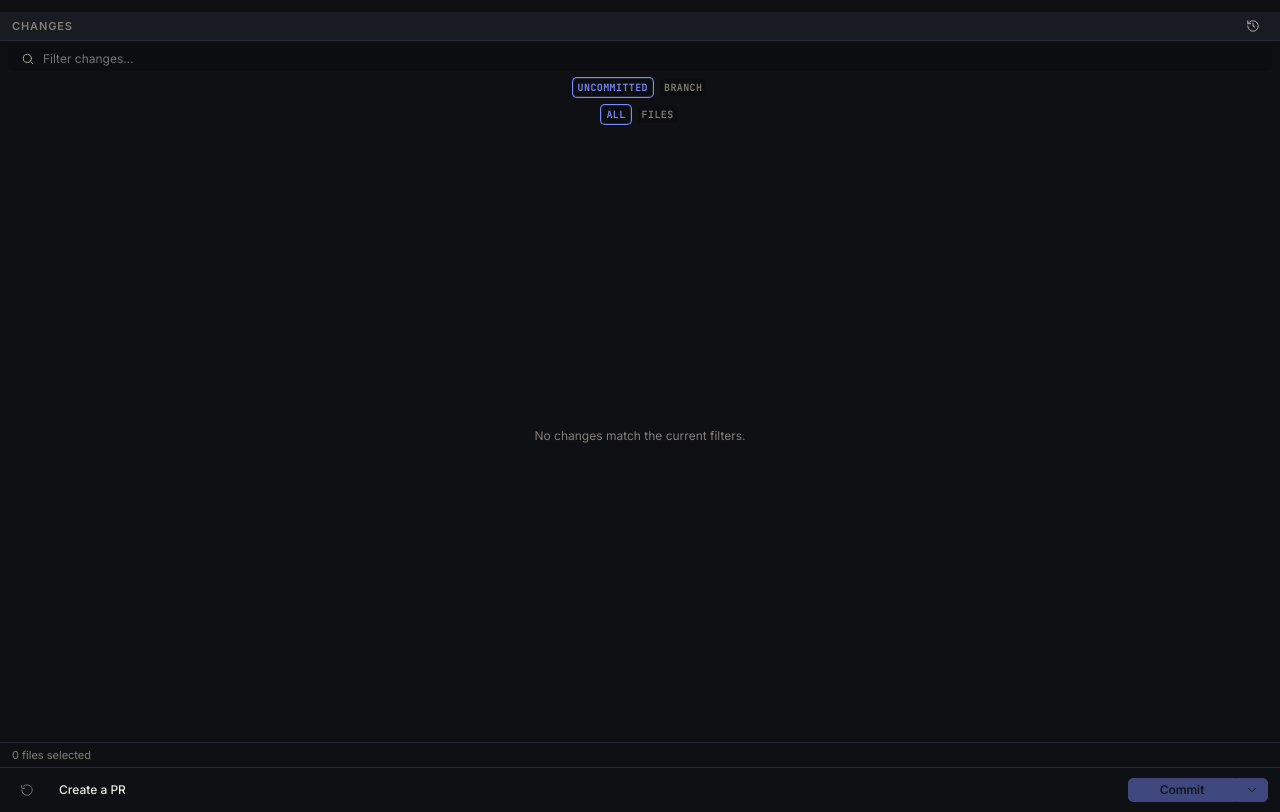
Scenario: the footer action control › CHG-FR-33, CHG-FR-34 persists the selected action user-globally
The image size is (1280, 812).
Check: the text "0 files selected" is shown, box left=0, top=742, right=1279, bottom=767
Check: the button "Commit" is shown, box left=1128, top=778, right=1236, bottom=802
Click the button named "Choose action" at (1252, 790), box left=1236, top=778, right=1268, bottom=802
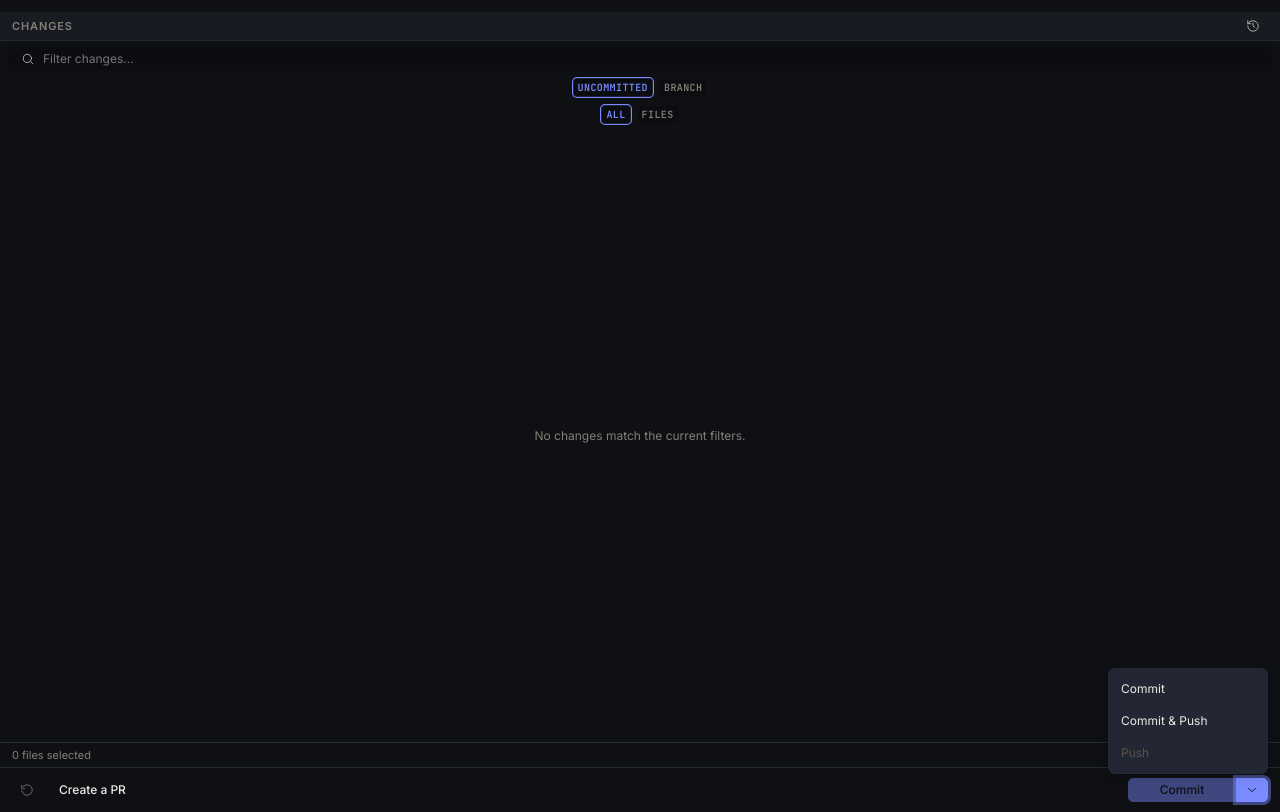
Click the option "Commit & Push" at (1164, 720), box left=1121, top=713, right=1208, bottom=728
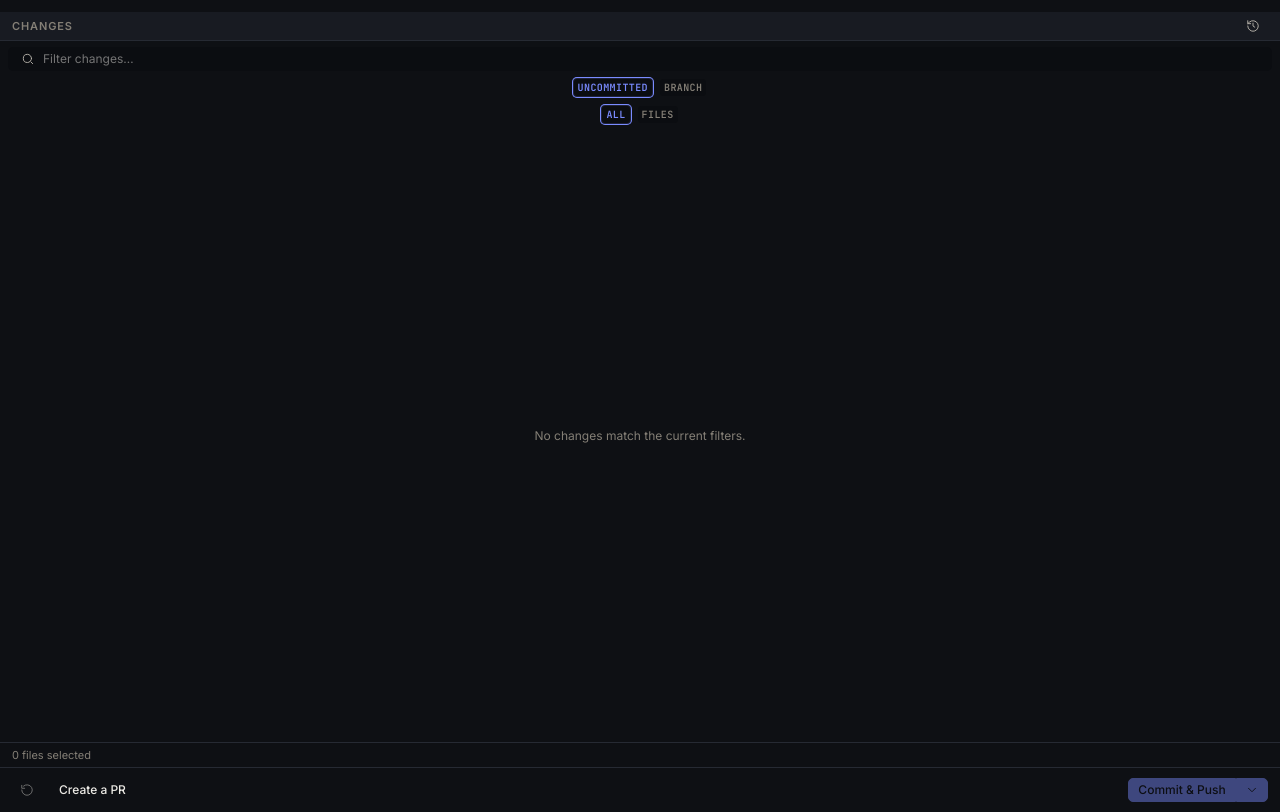
Check: the button "Commit & Push" is shown, box left=1128, top=778, right=1236, bottom=802
